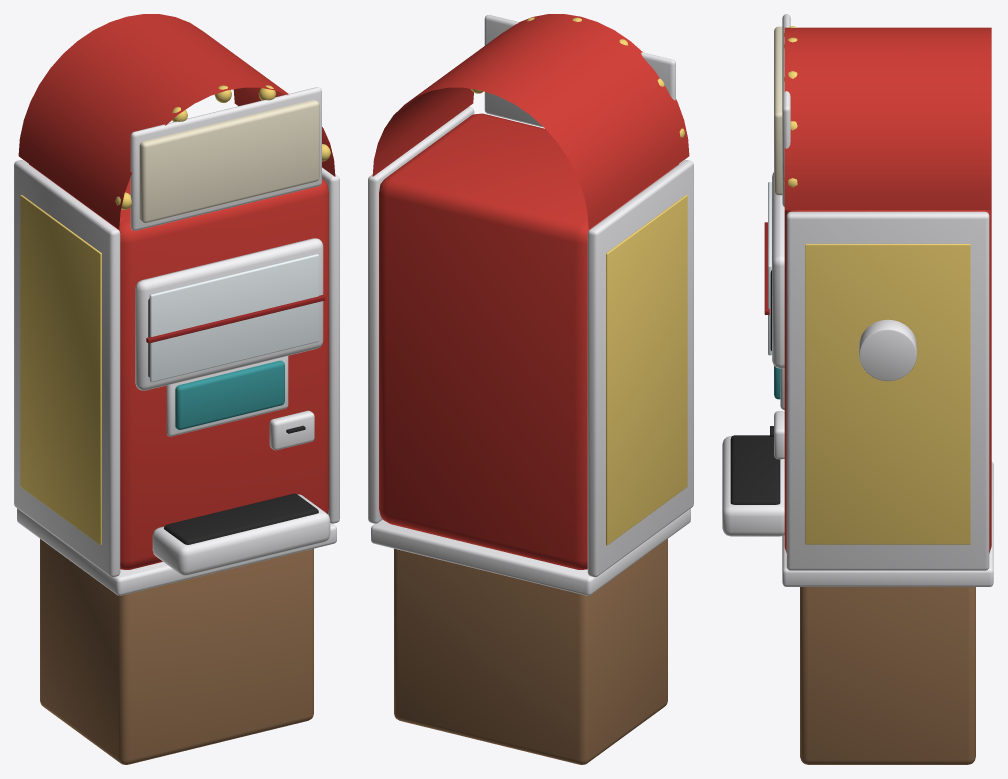
File: slot.glb
3 views of the same model, side by side, from view 1: azimuth 30°, elevation 25°; view 2: azimuth 150°, elevation 25°; view 3: azimuth 270°, elevation 25° (orthographic). The views are drawn at different scales.
Parts seen in each view (by area): view 1: stand, cabinet, crown, pin-1, marquee, window_glass, rail-1, bezel, tray, jackpot, marquee_rim, rail1 (+5 smaller); view 2: cabinet, stand, crown, pin-1, rail-1, plinth, rail1, marquee_rim; view 3: pin1, crown, stand, rail1, plinth, tray_well, handle_hub, tray, cabinet, bezel, marquee, marquee_rim (+2 smaller).
Part boxes in pixels (<box>): stand: <box>40,539,313,764</box>; cabinet: <box>29,164,328,569</box>; crown: <box>18,14,335,229</box>; pin-1: <box>20,195,101,545</box>; marquee: <box>139,99,319,222</box>; window_glass: <box>149,254,318,382</box>; rail-1: <box>14,160,120,577</box>; bezel: <box>135,238,323,390</box>; tray: <box>152,494,330,575</box>; jackpot: <box>175,360,284,429</box>; marquee_rim: <box>130,87,321,230</box>; rail1: <box>322,167,339,523</box>; cabinet: <box>379,113,678,569</box>; stand: <box>394,539,667,764</box>; crown: <box>372,14,689,229</box>; pin-1: <box>606,195,687,545</box>; rail-1: <box>587,160,693,577</box>; plinth: <box>371,508,690,595</box>; rail1: <box>368,107,474,523</box>; marquee_rim: <box>484,15,675,127</box>; pin1: <box>805,244,970,544</box>; crown: <box>784,27,991,210</box>; stand: <box>800,587,975,764</box>; rail1: <box>786,211,989,570</box>; plinth: <box>782,461,993,586</box>; tray_well: <box>730,435,780,504</box>; handle_hub: <box>859,319,916,381</box>; tray: <box>722,436,784,536</box>; cabinet: <box>784,210,991,553</box>; bezel: <box>772,172,784,368</box>; marquee: <box>774,26,782,195</box>; marquee_rim: <box>782,14,790,206</box>.
Size of the model in its own units: 0.725 by 1.81 by 0.655.
